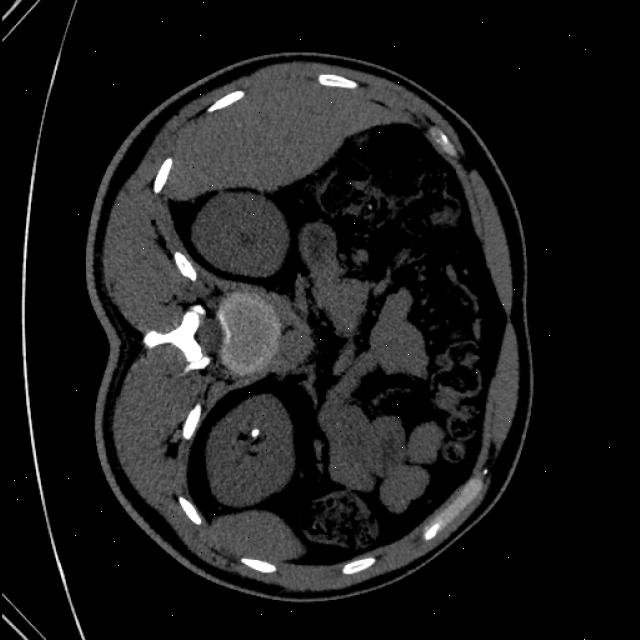kidneystone: (247, 428, 265, 440)
